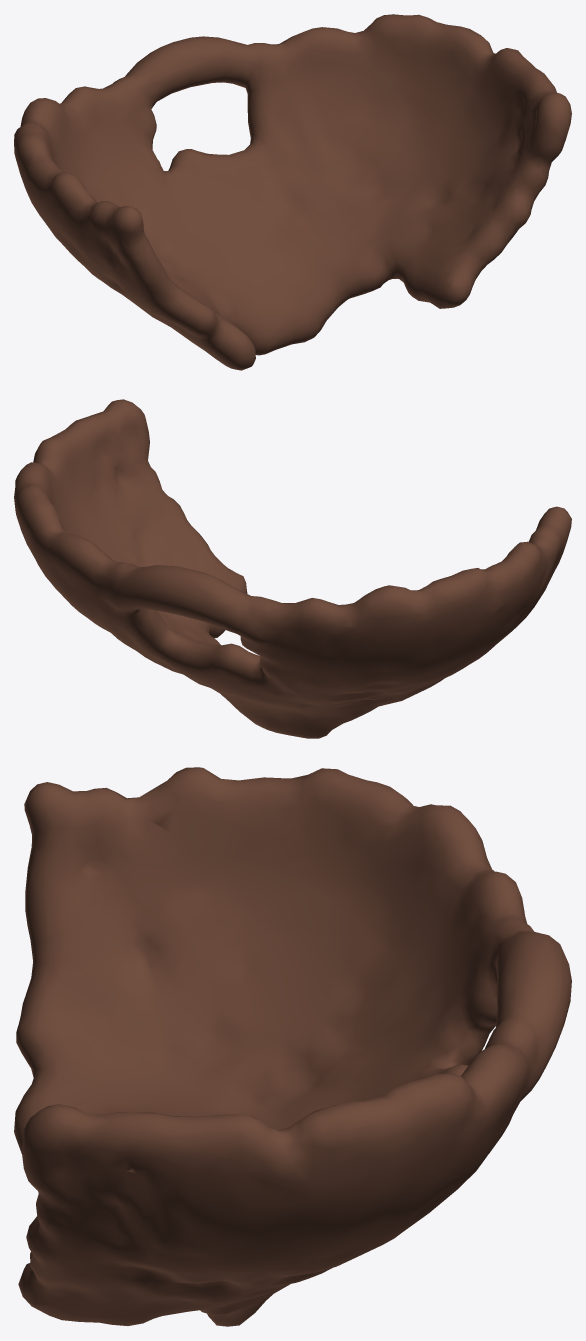
The model's file is beard_full_m.glb.
3 renders of one model, top to bottom at view 1: azimuth 30°, elevation 25°; view 2: azimuth 150°, elevation 25°; view 3: azimuth 270°, elevation 25°, orthographic. The views are drawn at different scales.
Parts seen in each view (by area): view 1: Acc_beard_full_Beard; view 2: Acc_beard_full_Beard; view 3: Acc_beard_full_Beard.
Part boxes in pixels (x1,y1,x2,y2): Acc_beard_full_Beard: [14, 14, 571, 370]; Acc_beard_full_Beard: [14, 399, 571, 738]; Acc_beard_full_Beard: [14, 767, 571, 1326].
Size of the model in its own units: 0.3941 by 0.1865 by 0.2515.
